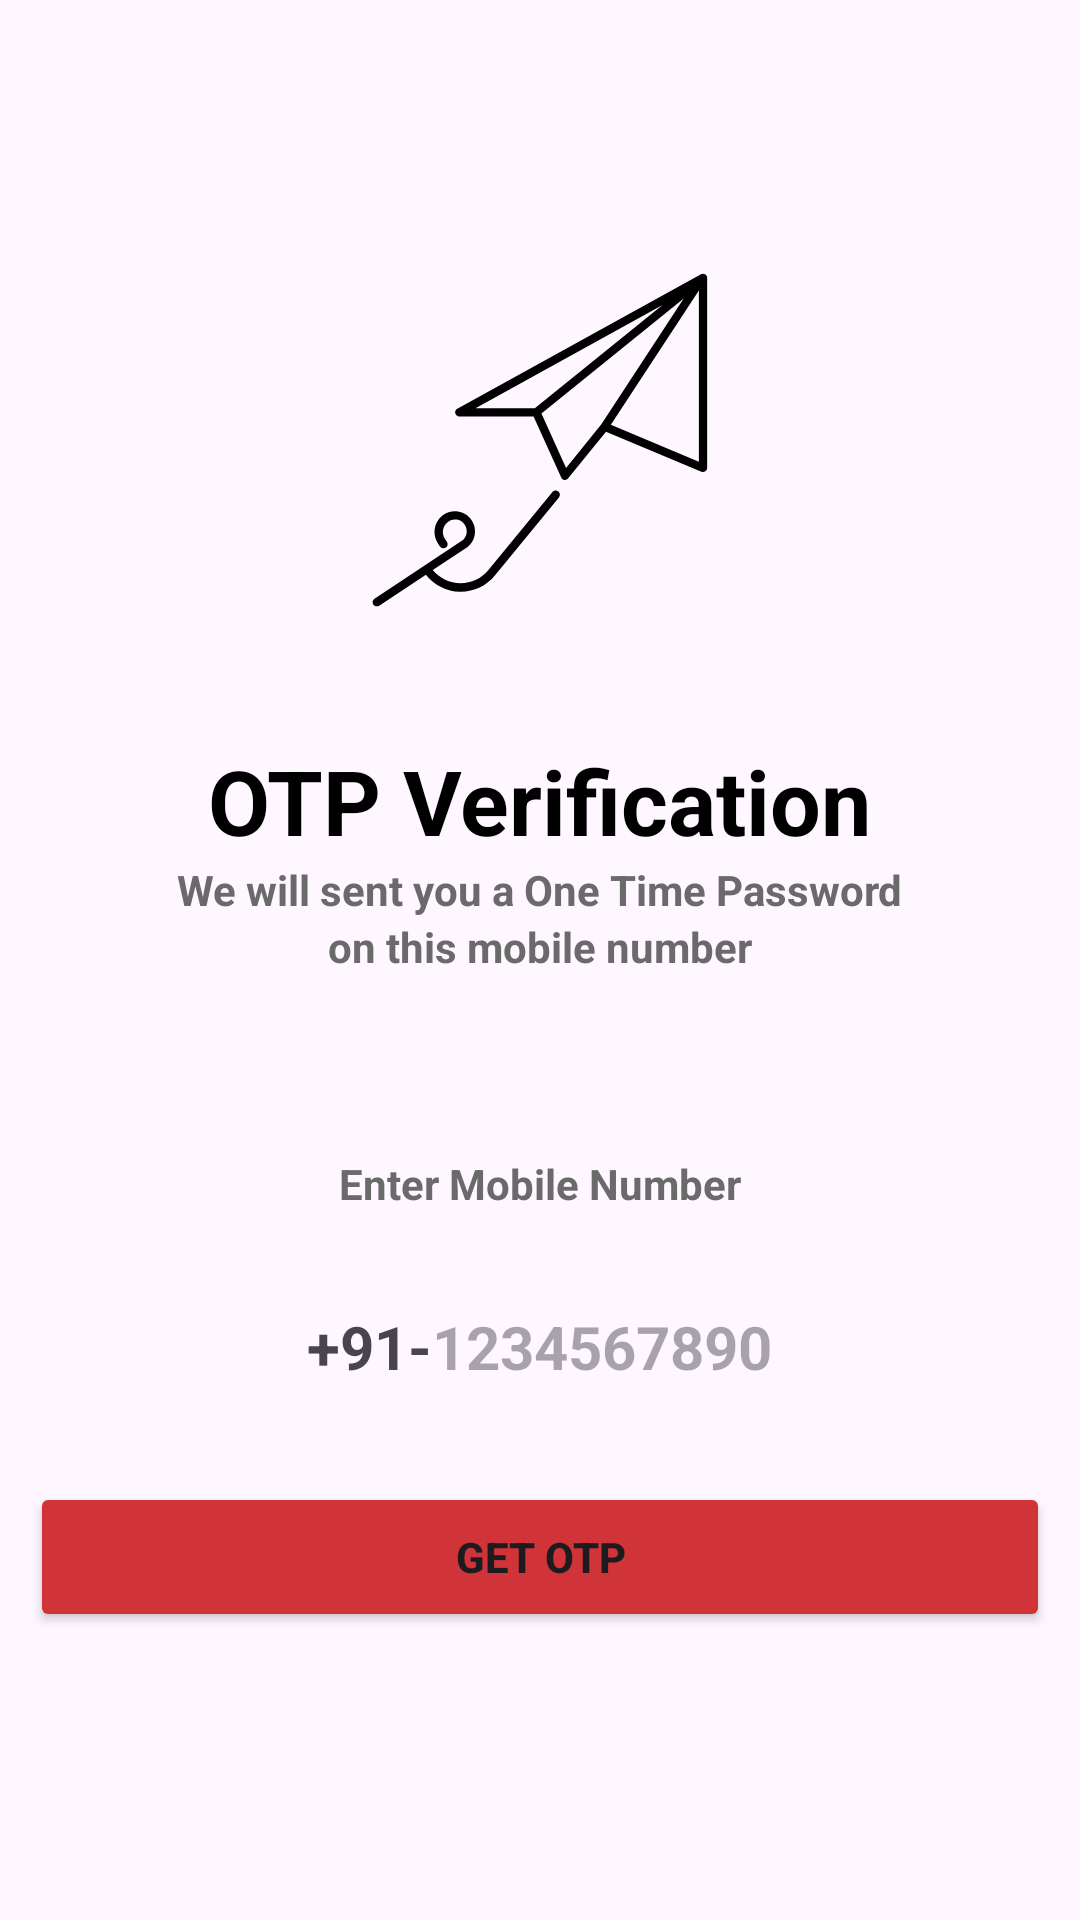

Locate icon controls on the screen. Image size 1080 x 1920, boxes as (x1, y1, x2, y2).
noun paper plane: (372, 273, 708, 607)
